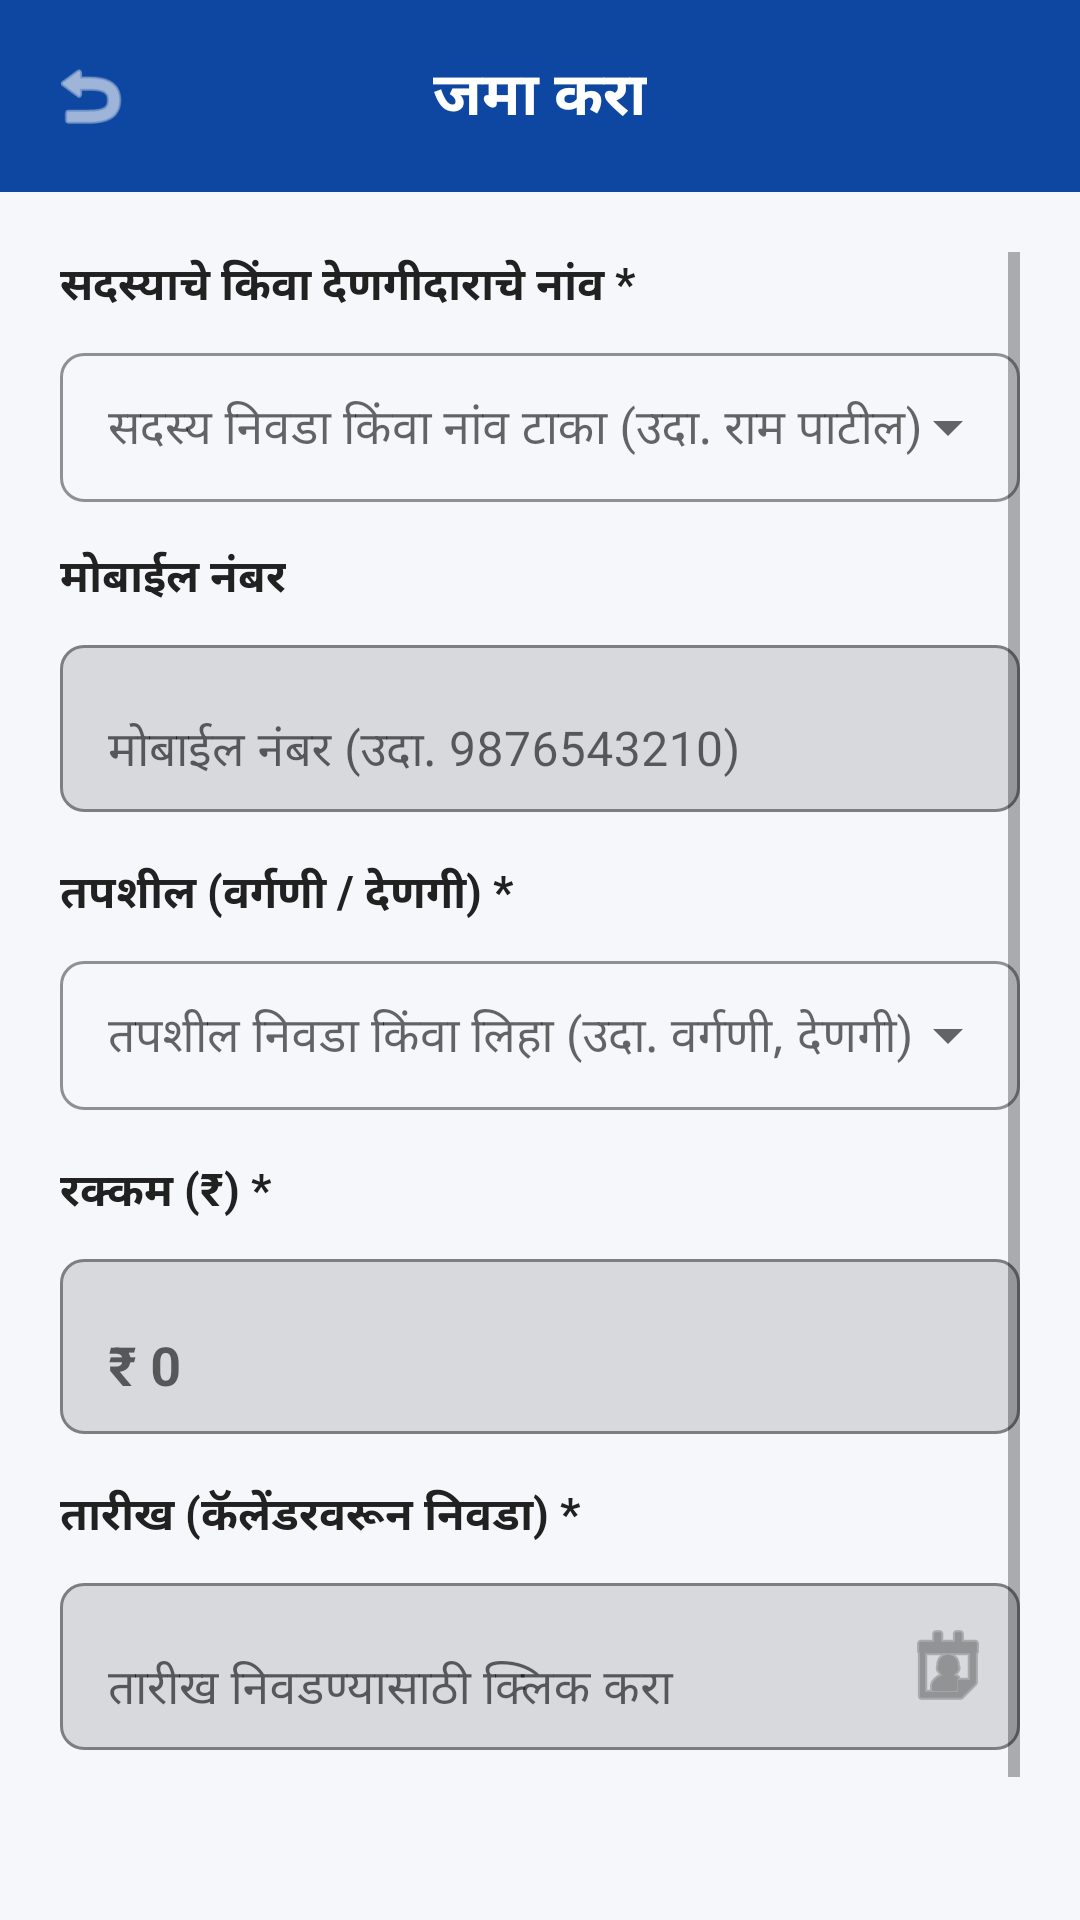

Locate icon controls on the screen. Image size 1080w x 1920h, boxes as bbox(x1, y1, x2, y2).
revert: bbox(61, 69, 122, 124)
